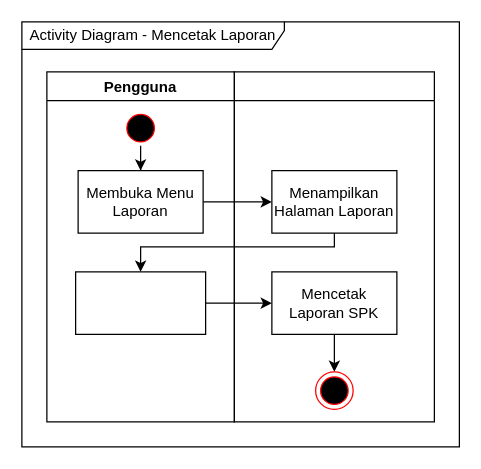
The diagram is 481 pixels wide and 469 high, and some of its shapes have lost their labels. The shapes that lost their labels are listed below. From the top down, each one's box as (x1, y1, x2, y2) in pixels, then its label:
(233, 71, 434, 422): Sistem
(74, 271, 206, 334): Memilih Hasil SPK dan Menekan Tombol Print
